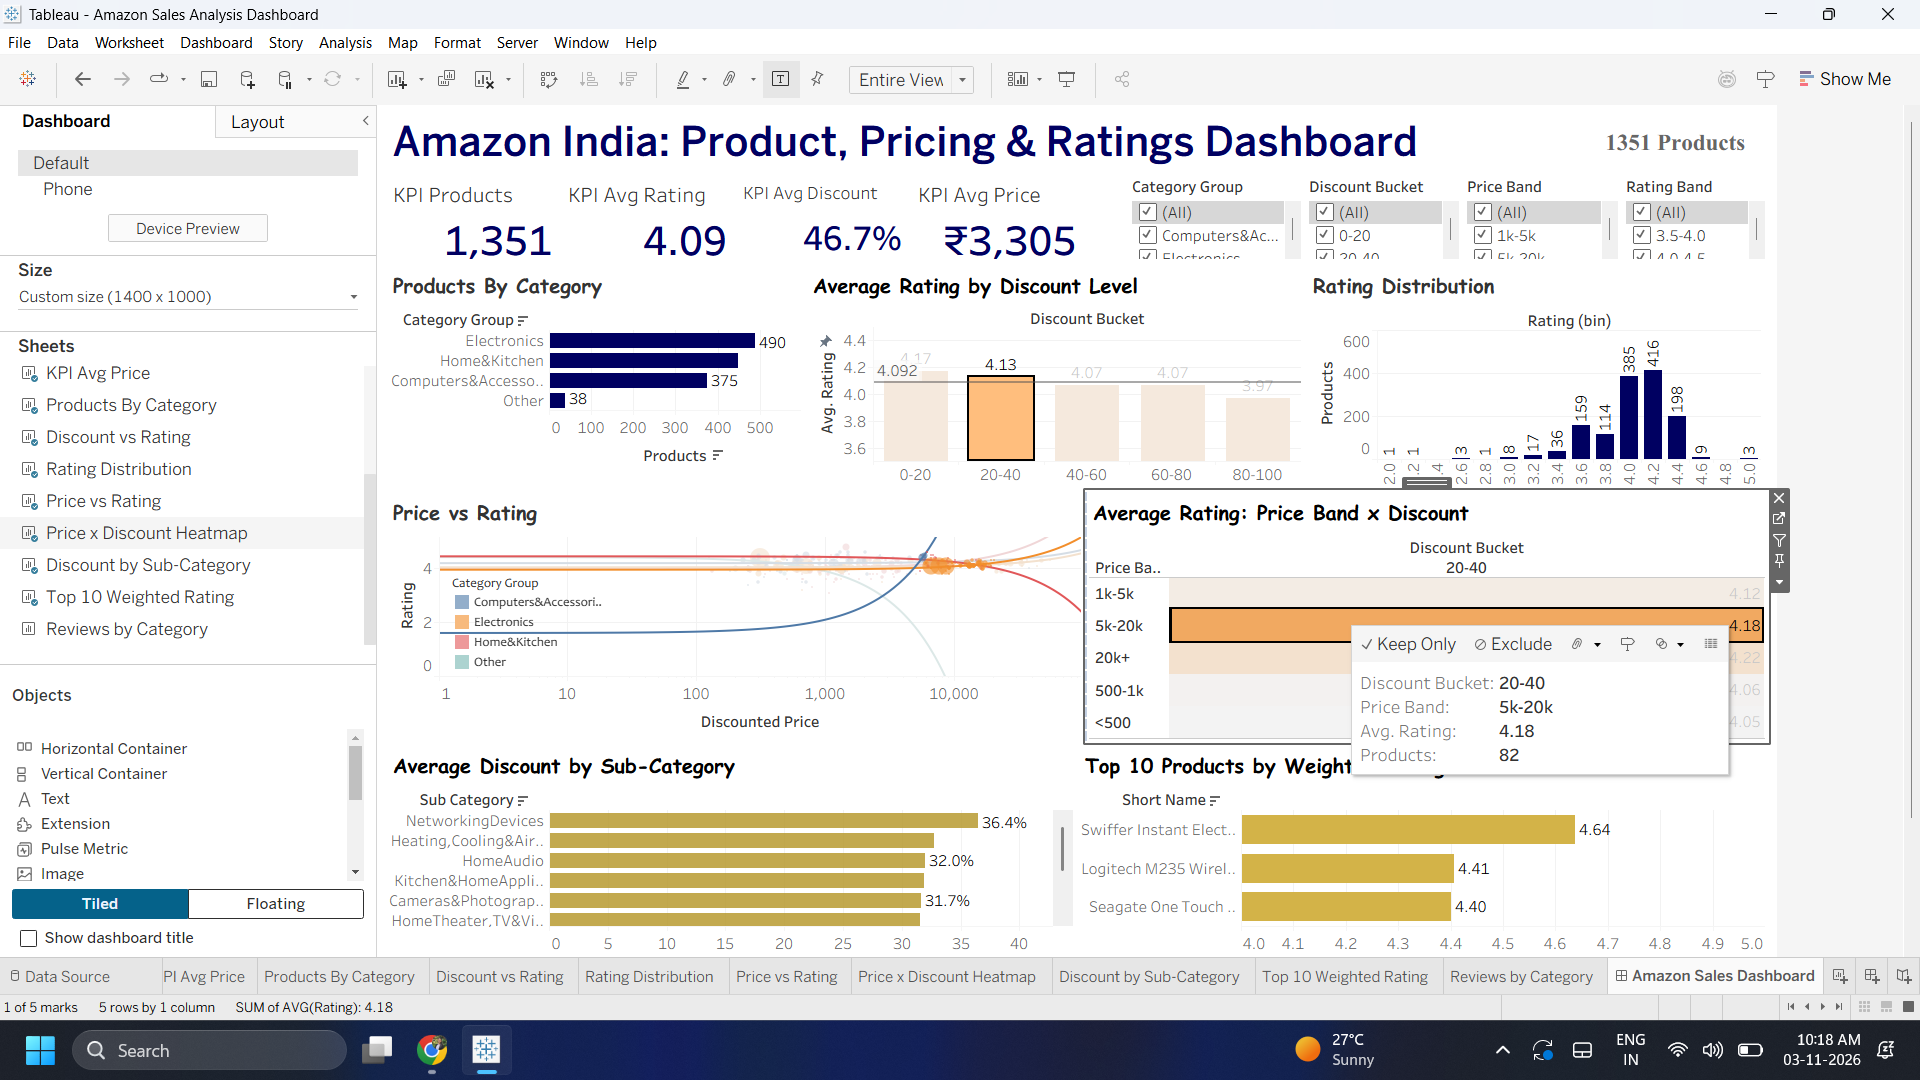

Layout of this report page (visuals, bound fields, positions):
{"tool":"tableau","page":{"name":"Amazon Sales Dashboard","canvas":[1400,1000],"ordinal":0},"visuals":[{"type":"text","box":[8,8,1213,59]},{"type":"text","box":[1221,8,171,59]},{"type":"worksheet","title":"KPI Products","mark":"Automatic","box":[8,67,175,91]},{"type":"worksheet","title":"KPI Avg Rating","mark":"Automatic","box":[183,67,175,91]},{"type":"worksheet","title":"KPI Avg Discount ","mark":"Automatic","box":[358,67,175,91]},{"type":"worksheet","title":"KPI Avg Price","mark":"Automatic","box":[533,67,175,91]},{"type":"filter","title":"Price vs Rating","param":"[federated.0980d4p0rky9n915e8mv21knjjbg].[none:Calculation_1494022736744448:nk]","box":[751,67,177,91]},{"type":"filter","title":"Price vs Rating","param":"[federated.0980d4p0rky9n915e8mv21knjjbg].[none:discount_bucket:nk]","box":[928,67,158,91]},{"type":"filter","title":"Price vs Rating","param":"[federated.0980d4p0rky9n915e8mv21knjjbg].[none:price_band:nk]","box":[1086,67,159,91]},{"type":"filter","title":"Price vs Rating","param":"[federated.0980d4p0rky9n915e8mv21knjjbg].[none:rating_band:nk]","box":[1245,67,147,91]},{"type":"worksheet","title":"Products By Category","mark":"Automatic","rows":["Calculation_1494022736744448"],"cols":["Calculation_1494022738333697"],"box":[8,158,420,227]},{"type":"worksheet","title":"Discount vs Rating","mark":"Automatic","rows":["rating"],"cols":["discount_bucket"],"box":[428,158,500,227]},{"type":"worksheet","title":"Rating Distribution","mark":"Bar","rows":["Calculation_1494022738333697"],"cols":["Rating (bin)"],"box":[928,158,460,227]},{"type":"worksheet","title":"Price vs Rating","mark":"Circle","rows":["rating"],"cols":["discounted_price"],"box":[8,385,700,253]},{"type":"worksheet","title":"Price x Discount Heatmap","mark":"Square","rows":["price_band"],"cols":["discount_bucket"],"box":[708,385,684,253]},{"type":"legend","title":"Price vs Rating","param":"[federated.0980d4p0rky9n915e8mv21knjjbg].[none:Calculation_1494022736744448:nk]","box":[75,470,158,98]},{"type":"worksheet","title":"Discount by Sub-Category","mark":"Automatic","rows":["sub_category"],"cols":["discount_percentage"],"box":[8,638,692,250]},{"type":"worksheet","title":"Top 10 Weighted Rating","mark":"Automatic","rows":["Calculation_1494022738530306"],"cols":["weighted_rating"],"box":[700,638,692,250]},{"type":"text","box":[8,888,1384,104]}]}

Visuals, with their boxes on the page's 1400x1000 design canvas (x1, y1, x2, y2). These are canvas units, not pixel positions in the 1920x1080 screenshot, which may show the page scaled, cropped or inside an application window:
text: 8,8,1221,67
text: 1221,8,1392,67
"KPI Products" worksheet: 8,67,183,158
"KPI Avg Rating" worksheet: 183,67,358,158
"KPI Avg Discount " worksheet: 358,67,533,158
"KPI Avg Price" worksheet: 533,67,708,158
"Price vs Rating" filter: 751,67,928,158
"Price vs Rating" filter: 928,67,1086,158
"Price vs Rating" filter: 1086,67,1245,158
"Price vs Rating" filter: 1245,67,1392,158
"Products By Category" worksheet: 8,158,428,385
"Discount vs Rating" worksheet: 428,158,928,385
"Rating Distribution" worksheet (Bar marks): 928,158,1388,385
"Price vs Rating" worksheet (Circle marks): 8,385,708,638
"Price x Discount Heatmap" worksheet (Square marks): 708,385,1392,638
"Price vs Rating" legend: 75,470,233,568
"Discount by Sub-Category" worksheet: 8,638,700,888
"Top 10 Weighted Rating" worksheet: 700,638,1392,888
text: 8,888,1392,992
